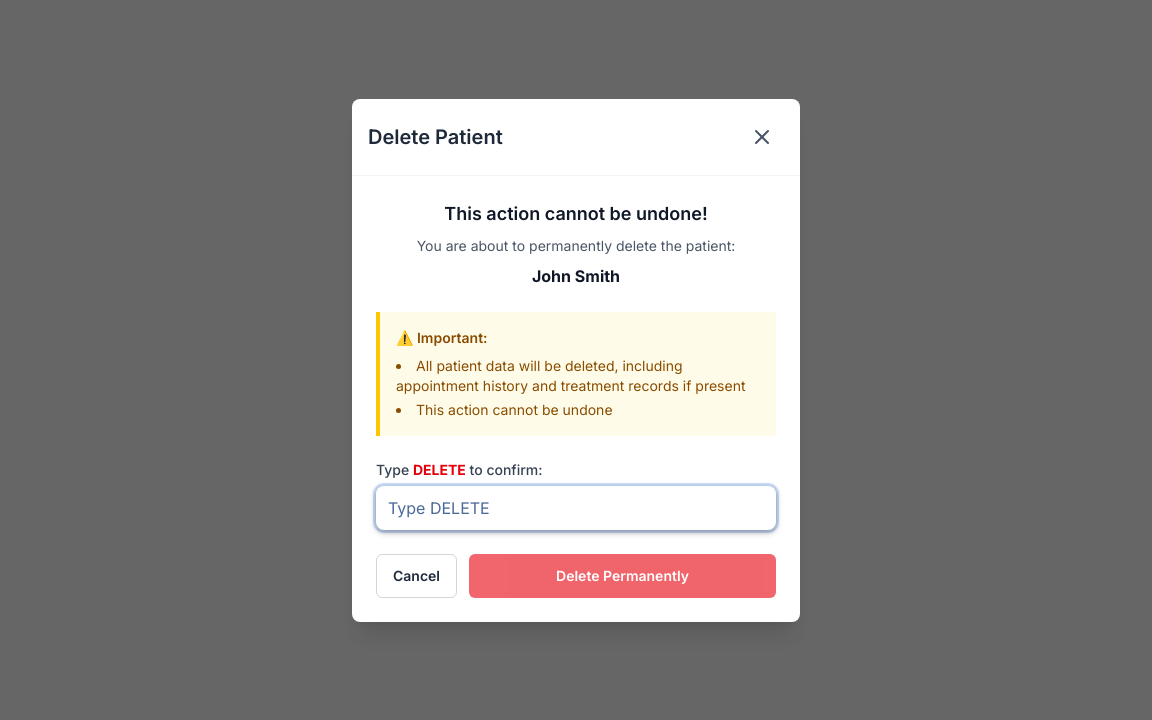
Test: DeletePatientModal › should require confirmation text to enable delete button
Expected: the button "Delete Permanently" is disabled, 469,554 -> 776,598
In the field with placeholder "Type DELETE": (576, 508) 376,486 -> 776,530, type "DELETE"
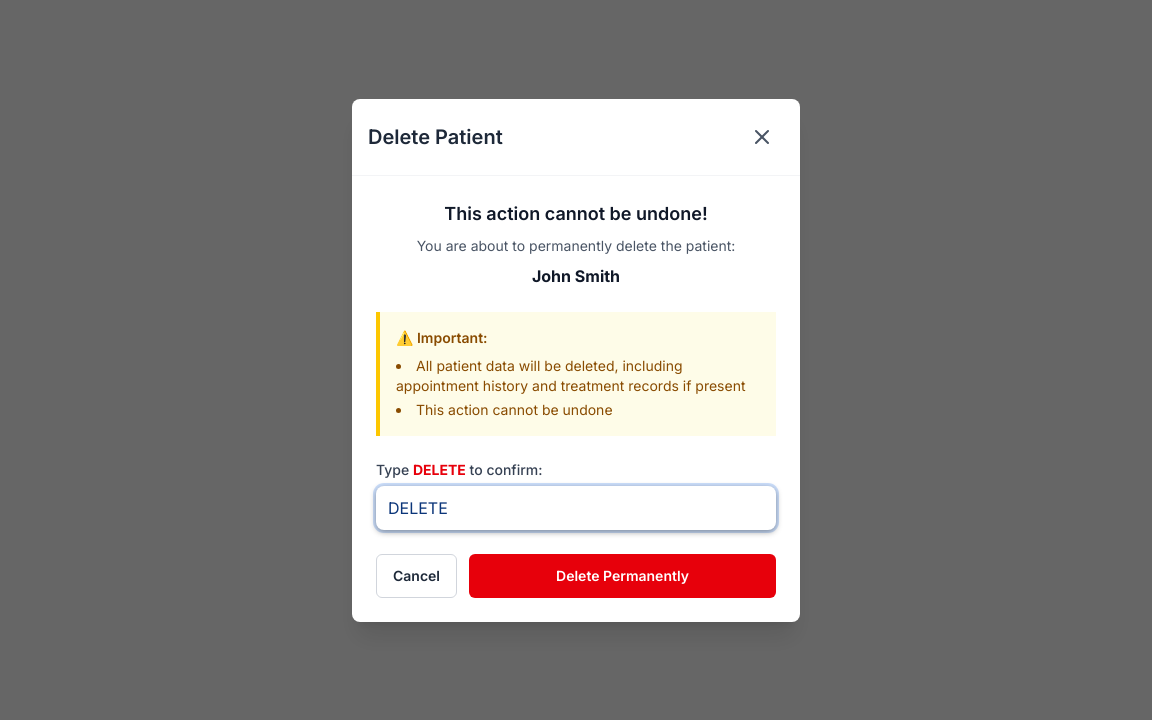
Expected: the button "Delete Permanently" is enabled, 469,554 -> 776,598
